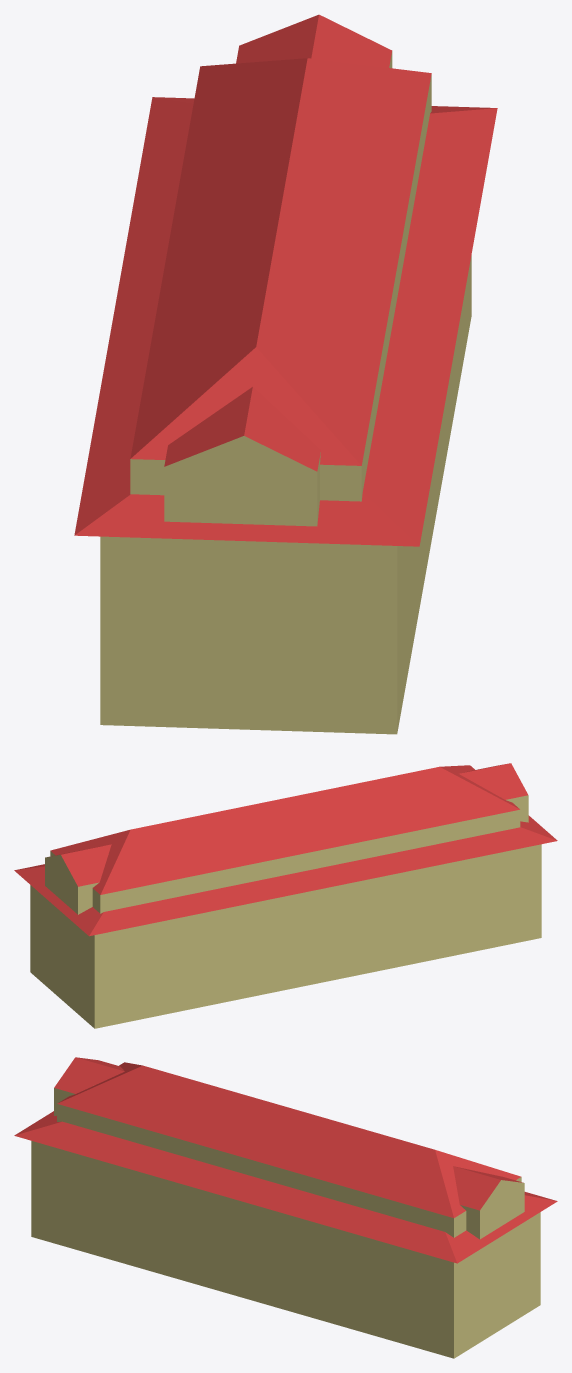
The picture shows the model from 3 angles, top to bottom: view 1: azimuth 30°, elevation 25°; view 2: azimuth 150°, elevation 25°; view 3: azimuth 270°, elevation 25°; orthographic projection. The views are drawn at different scales.
Visible parts, largest first — view 1: group_4, group_9, group_3, group_8, group_7, group_6, group_5; view 2: group_9, group_4, group_3, group_5, group_6, group_8, group_7; view 3: group_9, group_4, group_3, group_5, group_8, group_6, group_7.
Part boxes in pixels (x1,y1,x2,y2): group_4: (130,58,431,465); group_9: (100,255,471,734); group_3: (74,97,497,546); group_8: (75,97,496,546); group_7: (164,51,392,526); group_6: (164,14,392,471); group_5: (130,74,431,501); group_9: (30,844,541,1028); group_4: (50,765,519,894); group_3: (15,821,557,936); group_5: (50,809,520,913); group_6: (50,763,527,886); group_8: (14,815,557,935); group_7: (45,795,528,914); group_9: (31,1141,540,1358); group_4: (57,1062,520,1217); group_3: (14,1115,557,1263); group_5: (57,1104,521,1237); group_8: (15,1111,556,1263); group_6: (54,1057,523,1210); group_7: (54,1088,524,1239).
Size of the model in its own units: 35.94 by 43.45 by 14.37.
